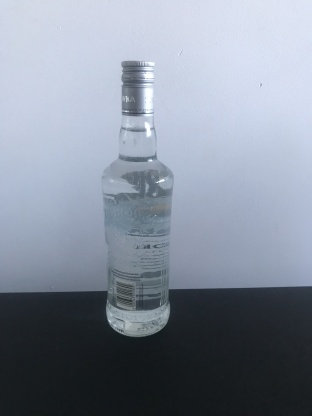nakretka: (120, 57, 156, 119)
